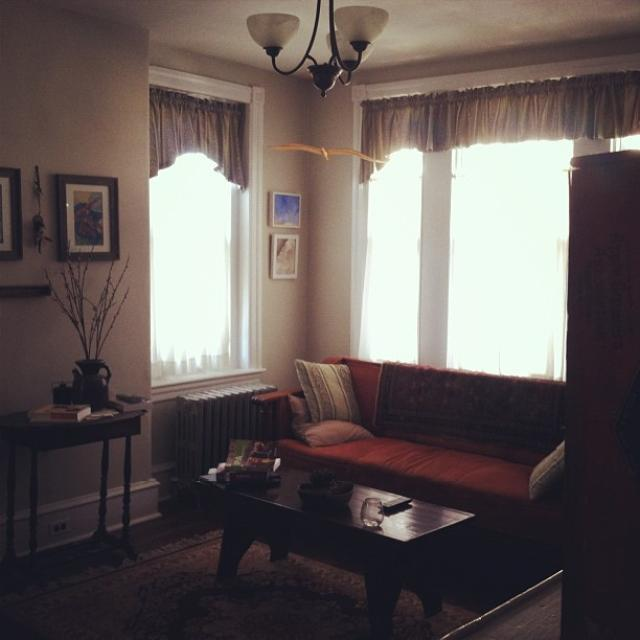Table: (203, 438, 462, 626), (0, 383, 157, 572)
chair: (268, 326, 595, 535)
